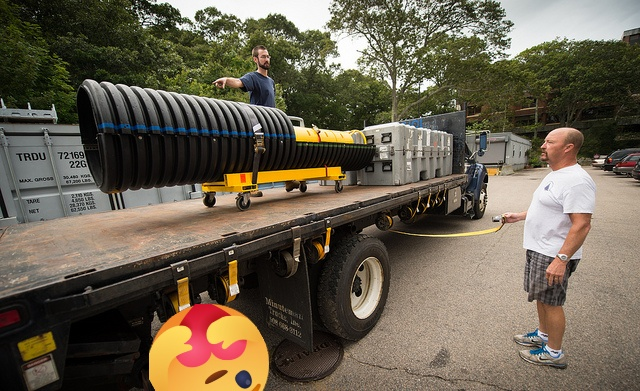care: (149, 304, 269, 391)
